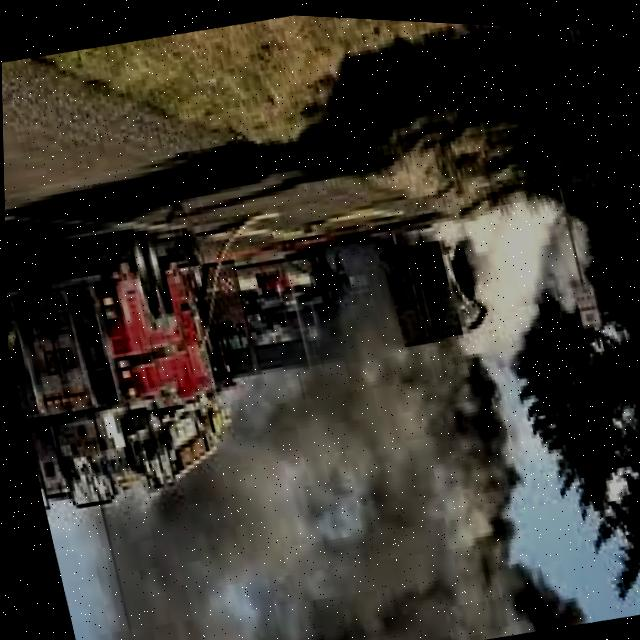Smoke: (72, 310, 554, 640)
